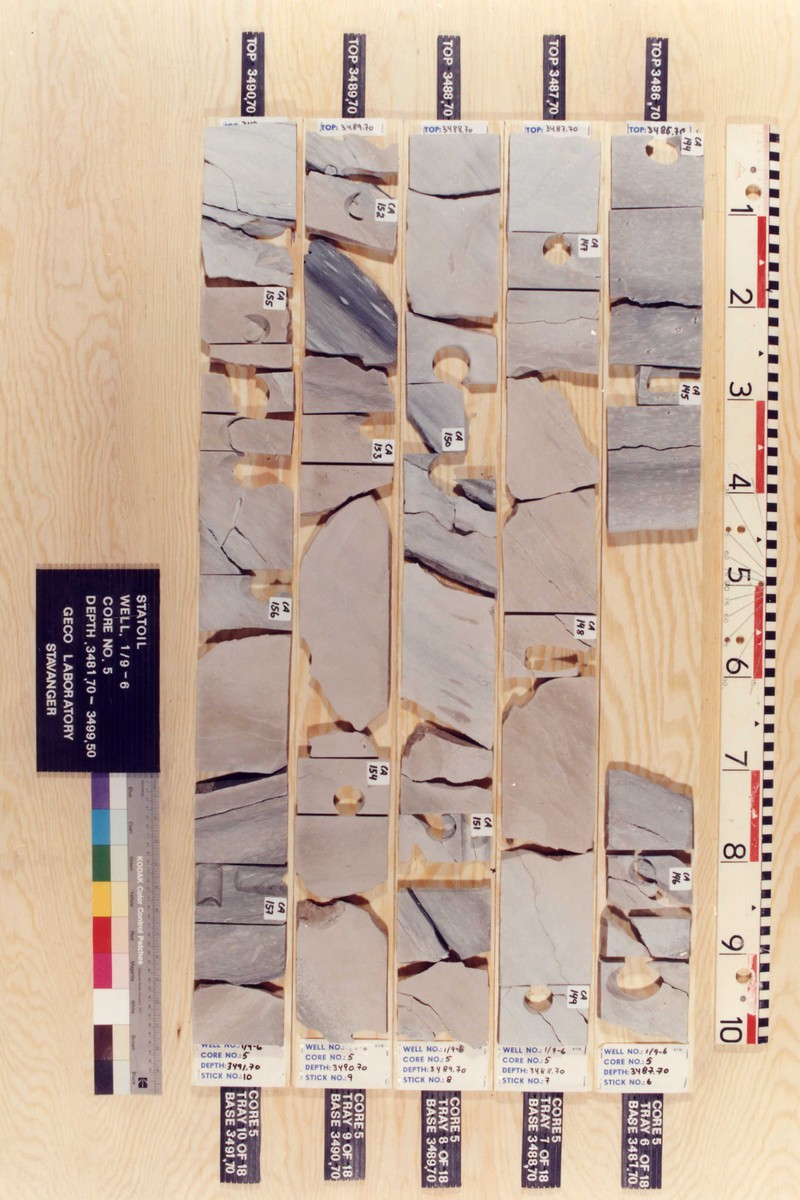core: (193, 124, 293, 1043), (500, 137, 598, 1047), (409, 134, 494, 1043), (304, 132, 388, 1041), (610, 134, 702, 538), (604, 766, 693, 1041)
